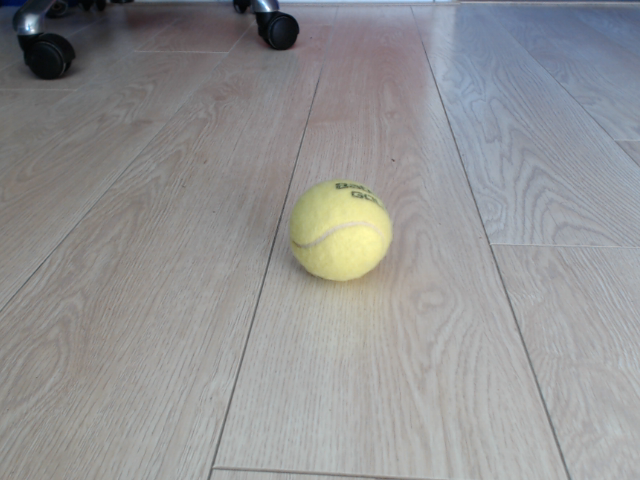ball: (285, 176, 395, 282)
